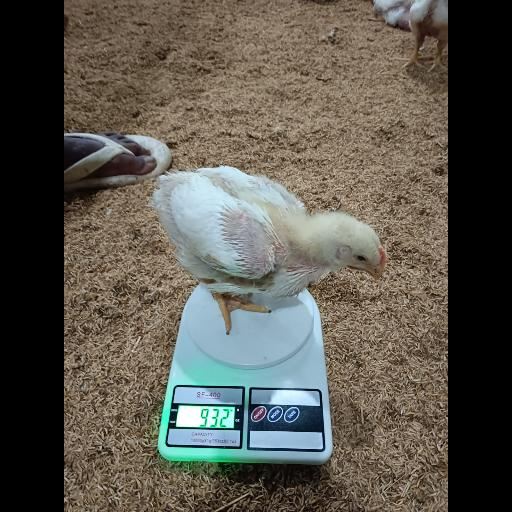chick: (153, 165, 388, 333)
